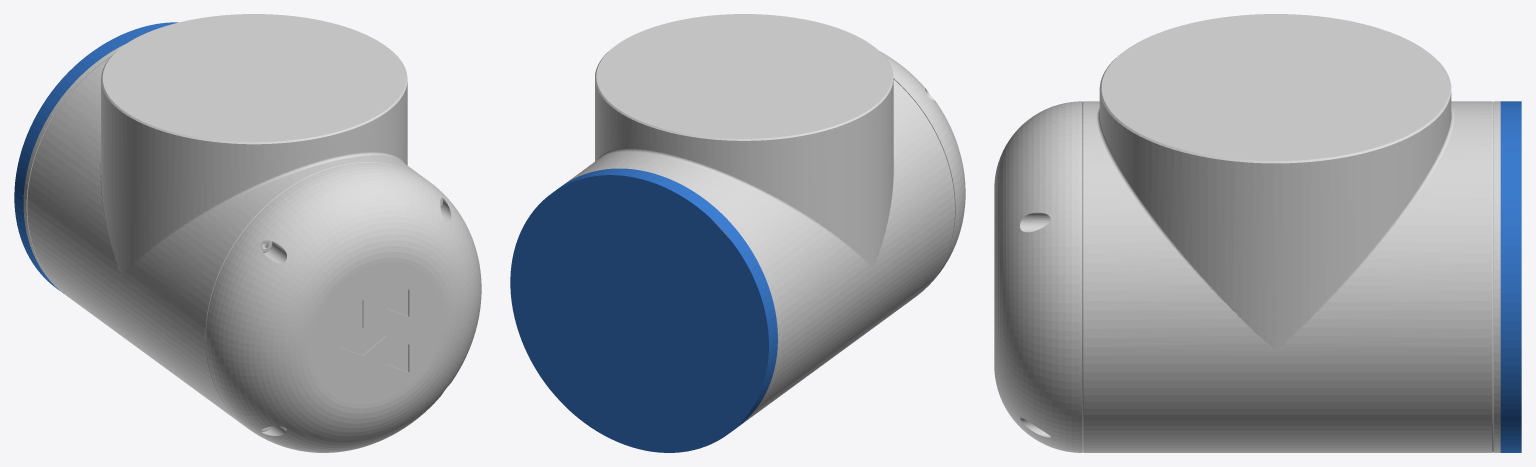
Rendered from link3_fixed_axis.dae.
The picture shows the model from 3 angles, left to right: view 1: azimuth 30°, elevation 25°; view 2: azimuth 150°, elevation 25°; view 3: azimuth 270°, elevation 25°; orthographic projection. The views are drawn at different scales.
Parts seen in each view (by area): view 1: Link3; view 2: Link3; view 3: Link3.
Part boxes in pixels (x1,y1,x2,y2): Link3: (14, 14, 481, 452); Link3: (510, 14, 965, 452); Link3: (994, 14, 1521, 452).
Size of the model in its own units: 0.1 by 0.15 by 0.1095.
